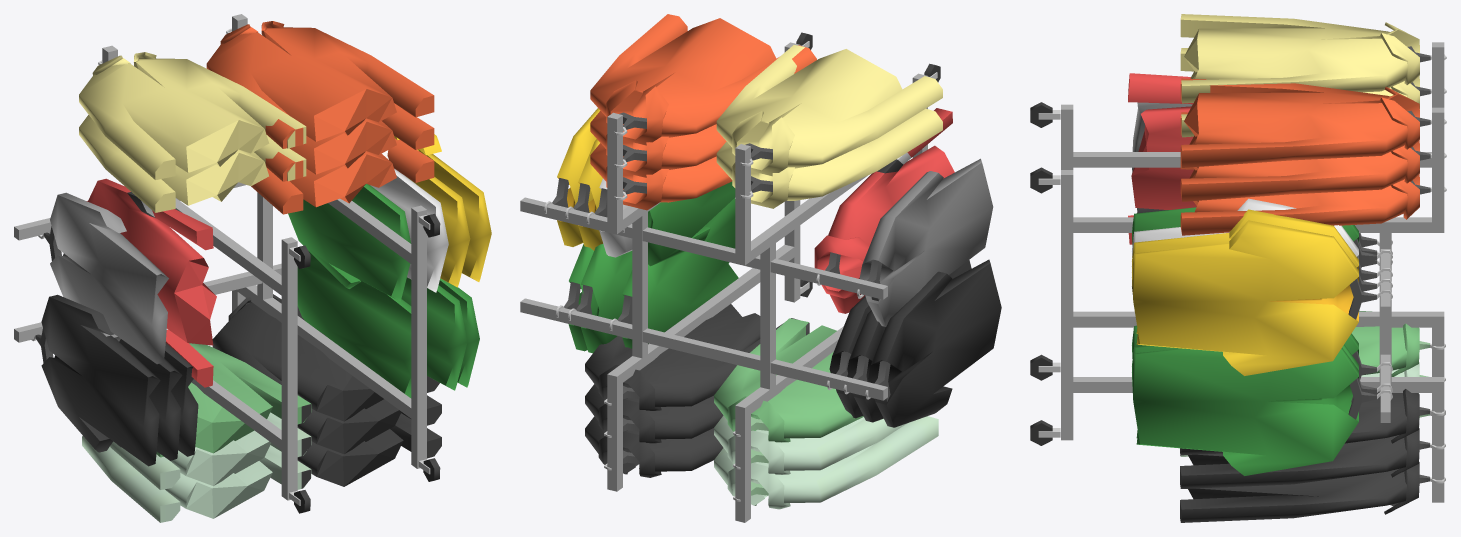
Rendered from rail-b.glb.
3 views of the same model, side by side, from view 1: azimuth 30°, elevation 25°; view 2: azimuth 150°, elevation 25°; view 3: azimuth 270°, elevation 25° (orthographic). The views are drawn at different scales.
Visible parts, largest first — view 1: clothes_035; view 2: clothes_035; view 3: clothes_035.
Part boxes in pixels (box(x1,y1,x2,y2)): clothes_035: box(14, 14, 491, 522); clothes_035: box(520, 14, 1001, 522); clothes_035: box(1030, 14, 1446, 522).
Size of the model in its own units: 1.56 by 1.62 by 1.48.
1 material, 1 textured.
